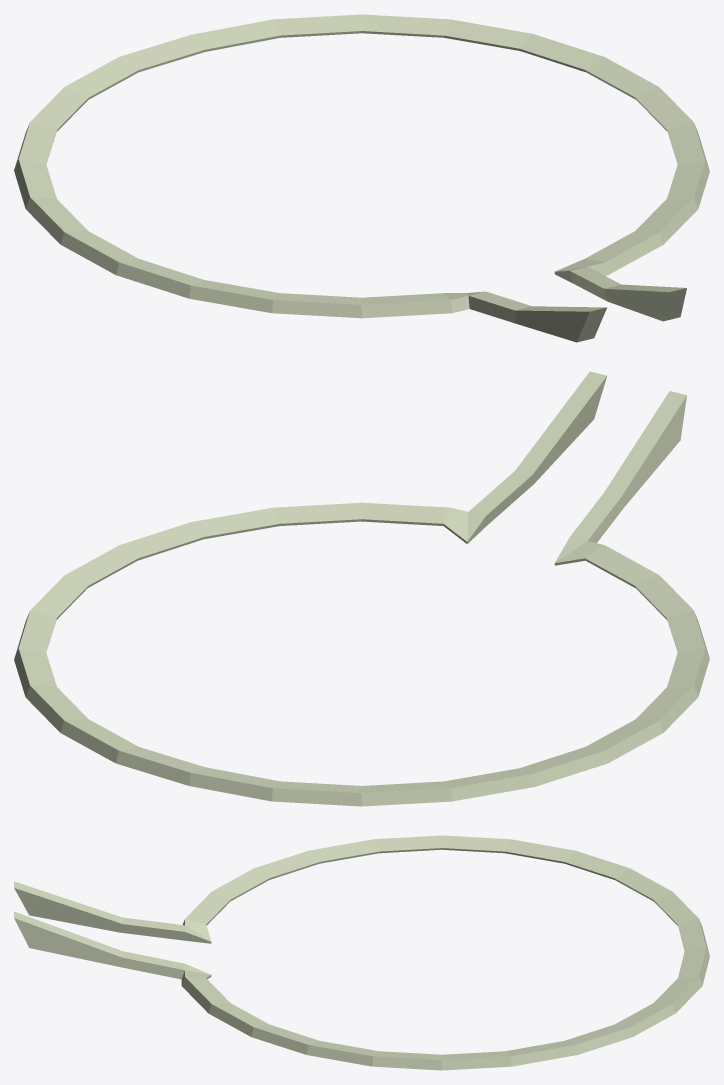
File: glass_frame_low.fbx
The picture shows the model from 3 angles, top to bottom: view 1: azimuth 30°, elevation 25°; view 2: azimuth 150°, elevation 25°; view 3: azimuth 270°, elevation 25°; orthographic projection. The views are drawn at different scales.
Parts seen in each view (by area): view 1: cristal_frame; view 2: cristal_frame; view 3: cristal_frame.
Part boxes in pixels (x1=…): cristal_frame: x1=14, y1=14, x2=709, y2=342; cristal_frame: x1=14, y1=371, x2=709, y2=806; cristal_frame: x1=14, y1=835, x2=709, y2=1070.
Size of the model in its own units: 5875 by 730 by 7585.
